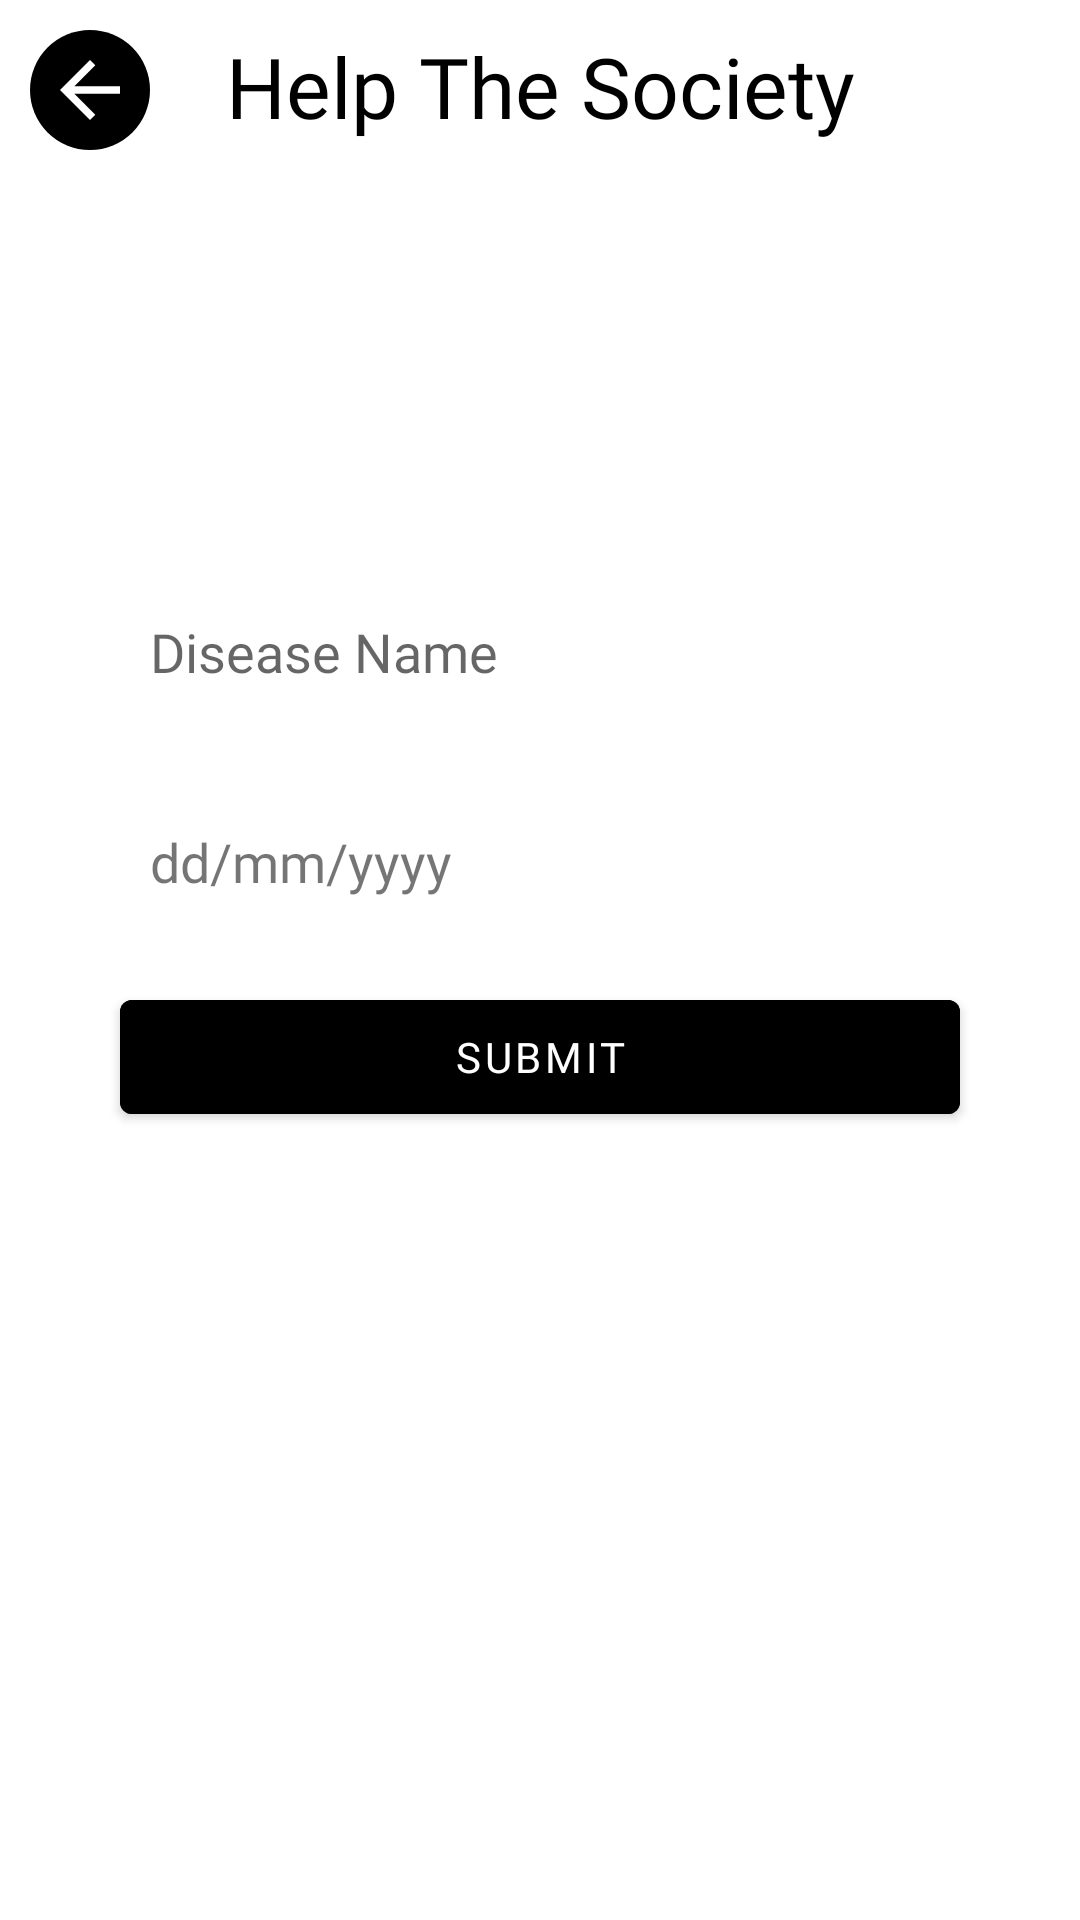

Icon bounding boxes for this 1080x1920 phone screenshot, format (x1, y1, x2, y2):
arrow back: (60, 60, 120, 120)
